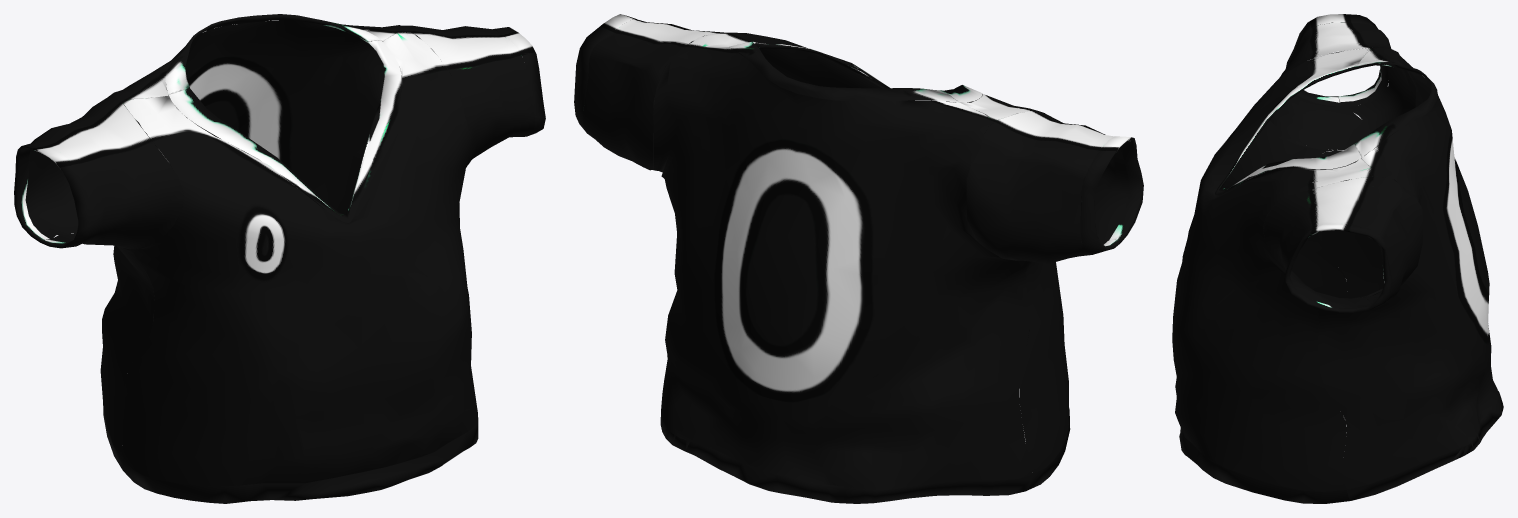
The model's file is Soccer-Stealth.glb.
The picture shows the model from 3 angles, left to right: view 1: azimuth 30°, elevation 25°; view 2: azimuth 150°, elevation 25°; view 3: azimuth 270°, elevation 25°; orthographic projection. The views are drawn at different scales.
Visible parts, largest first — view 1: Soccer-Stealth; view 2: Soccer-Stealth; view 3: Soccer-Stealth.
Boxes of the visible parts, x1=… form: Soccer-Stealth: x1=14, y1=14, x2=545, y2=503; Soccer-Stealth: x1=574, y1=14, x2=1143, y2=503; Soccer-Stealth: x1=1172, y1=14, x2=1503, y2=503.
Bounding box in the file's own units: 0.5124 × 0.3829 × 0.3312.
1 material, 1 textured.
